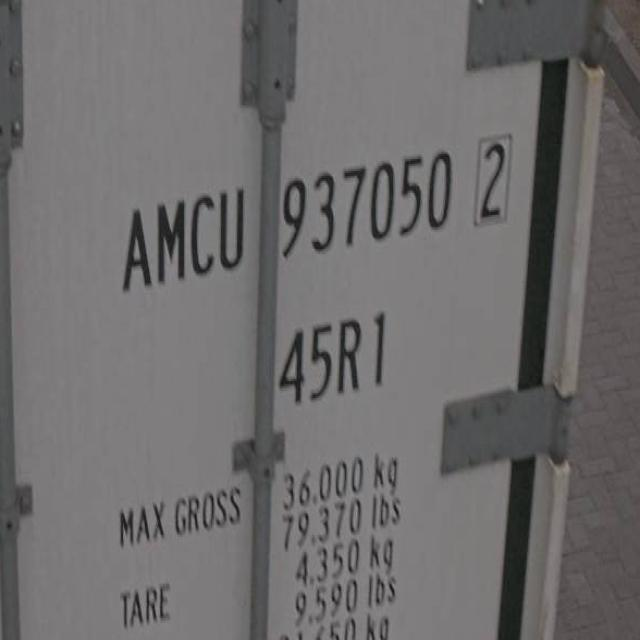dv: (466, 127, 520, 242)
owner: (118, 180, 254, 300)
serial: (275, 142, 458, 264)
size: (274, 308, 396, 417)
